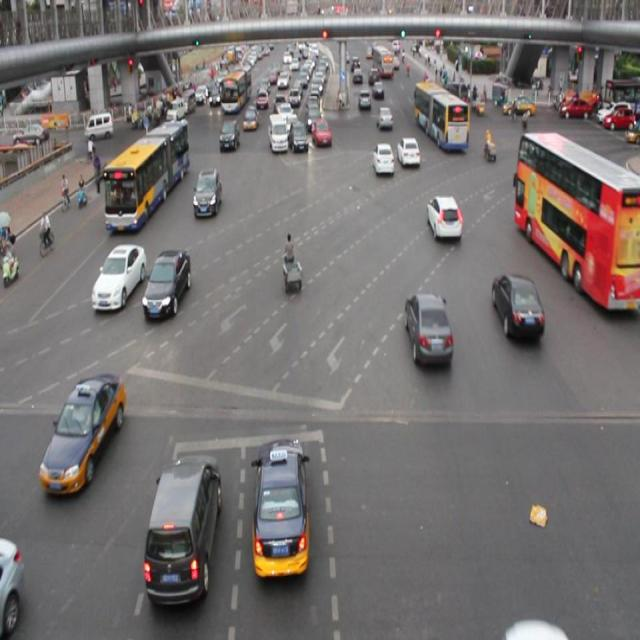car: (40, 373, 122, 491), (252, 437, 312, 581), (404, 292, 452, 368), (491, 274, 543, 343), (92, 245, 145, 312), (144, 249, 192, 320), (1, 534, 24, 630), (427, 195, 462, 240), (192, 168, 223, 218), (371, 140, 394, 178), (396, 135, 419, 167), (218, 118, 239, 153), (289, 120, 309, 155), (311, 116, 332, 148), (376, 106, 393, 131)
truck: (146, 454, 220, 601), (267, 114, 288, 154)
van: (513, 134, 640, 294), (104, 122, 187, 229), (413, 83, 468, 149)
